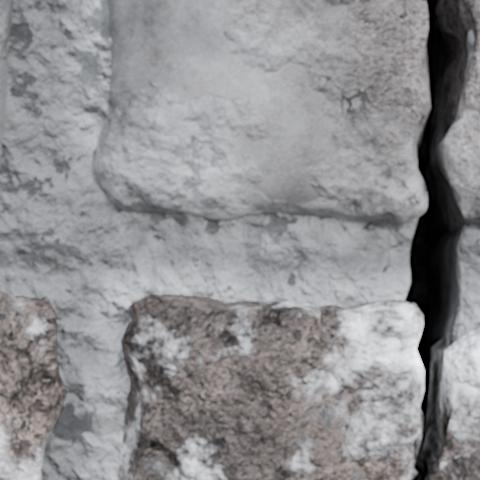brick: (0, 292, 65, 479), (0, 0, 12, 158)
broken_brick: (91, 0, 426, 224), (116, 294, 422, 479), (444, 0, 479, 226), (431, 322, 479, 479)
crack: (403, 0, 478, 479)
